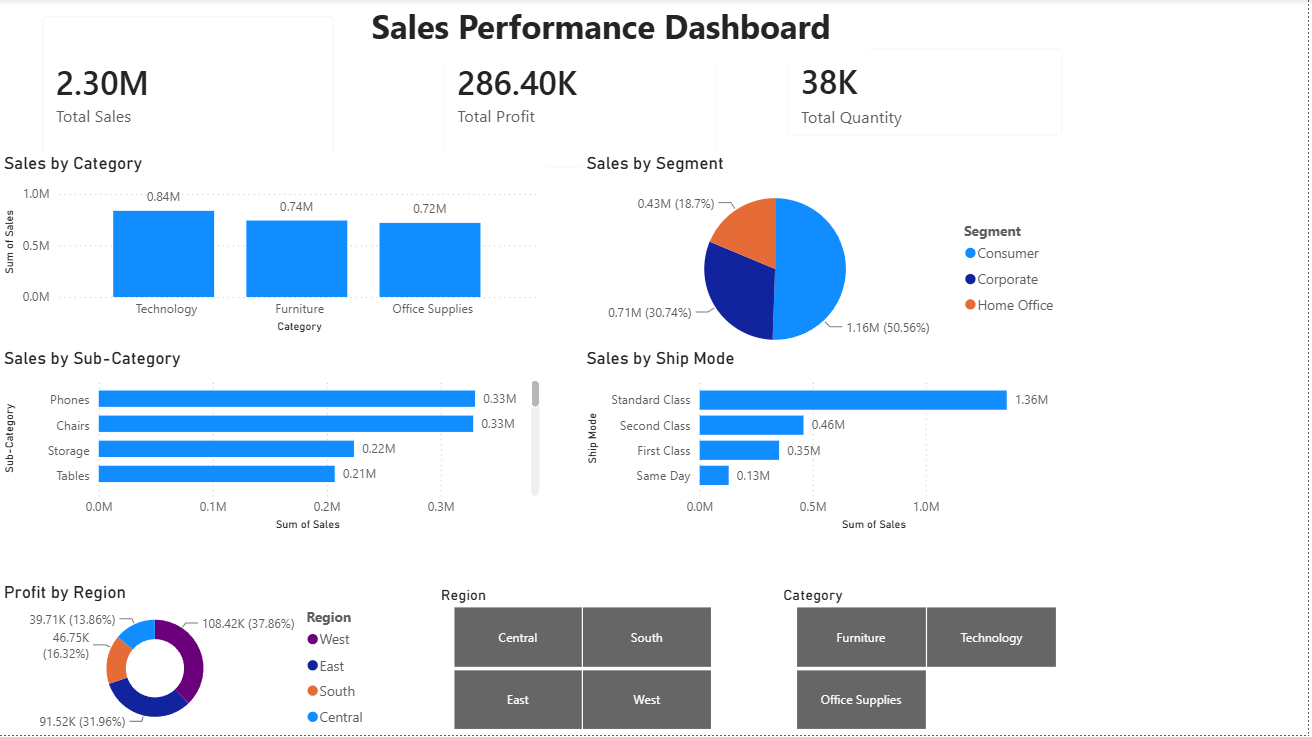

Layout of this report page (visuals, bound fields, positions):
{"tool":"powerbi","page":{"name":"Page 1","canvas":[1280,720],"ordinal":0},"visuals":[{"type":"cardVisual","fields":{"Data":["Sum(SampleSuperstore.Sales)"]},"box":[26.1,0,319.7,182.5],"z":0},{"type":"cardVisual","fields":{"Data":["Sum(SampleSuperstore.Profit)"]},"box":[418.5,0,300.5,182.5],"z":1000},{"type":"cardVisual","fields":{"Data":["Sum(SampleSuperstore.Quantity)"]},"box":[754.7,31.6,303.3,119.4],"z":2000},{"type":"clusteredColumnChart","title":"Sales by Category","fields":{"Category":["SampleSuperstore.Category"],"Y":["Sum(SampleSuperstore.Sales)"]},"box":[0,150.9,533.8,181.1],"z":3000},{"type":"clusteredBarChart","title":"Sales by Sub-Category","fields":{"Y":["Sum(SampleSuperstore.Sales)"],"Category":["SampleSuperstore.Sub-Category"]},"box":[0,341.7,533.8,183.9],"z":4000},{"type":"donutChart","title":"Profit by Region","fields":{"Category":["SampleSuperstore.Region"],"Y":["Sum(SampleSuperstore.Profit)"]},"box":[0,569.5,370.5,150.9],"z":5000},{"type":"pieChart","title":"Sales by Segment","fields":{"Category":["SampleSuperstore.Segment"],"Y":["Sum(SampleSuperstore.Sales)"]},"box":[569.5,150.9,476.2,208.6],"z":6000},{"type":"clusteredBarChart","title":"Sales by Ship Mode","fields":{"Category":["SampleSuperstore.Ship Mode"],"Y":["Sum(SampleSuperstore.Sales)"]},"box":[569.5,341.7,476.2,183.9],"z":7000},{"type":"slicer","fields":{"Values":["SampleSuperstore.Region"]},"box":[419.9,569.5,300.5,150.9],"z":8000},{"type":"slicer","fields":{"Values":["SampleSuperstore.Category"]},"box":[754.7,569.5,303.3,150.9],"z":9000},{"type":"textbox","box":[359.5,0,491.3,61.7],"z":10000}]}

Visuals, with their boxes in screenshot pixels (x1, y1, x2, y2), scaled from the page's 1280x720 canvas onto the 1312x737 screenshot:
cardVisual - Sum(SampleSuperstore.Sales): detection(27, 0, 354, 187)
cardVisual - Sum(SampleSuperstore.Profit): detection(429, 0, 737, 187)
cardVisual - Sum(SampleSuperstore.Quantity): detection(774, 32, 1084, 155)
"Sales by Category" clusteredColumnChart: detection(0, 154, 547, 340)
"Sales by Sub-Category" clusteredBarChart: detection(0, 350, 547, 538)
"Profit by Region" donutChart: detection(0, 583, 380, 736)
"Sales by Segment" pieChart: detection(584, 154, 1072, 368)
"Sales by Ship Mode" clusteredBarChart: detection(584, 350, 1072, 538)
slicer - SampleSuperstore.Region: detection(430, 583, 738, 736)
slicer - SampleSuperstore.Category: detection(774, 583, 1084, 736)
textbox: detection(368, 0, 872, 63)
